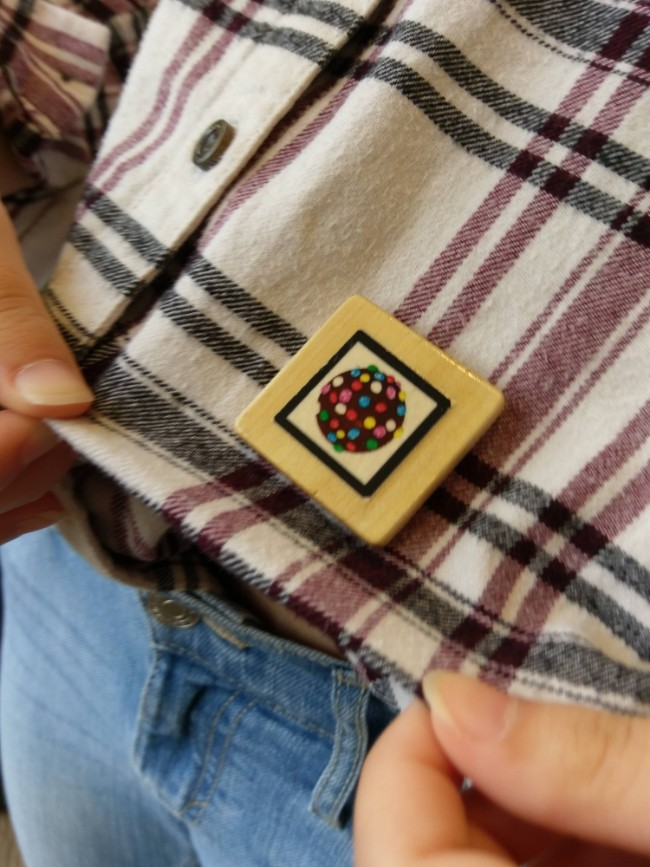cookie: (262, 326, 464, 509)
